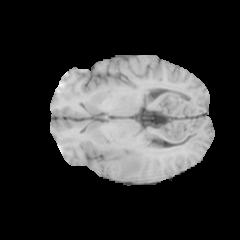glioma: (89, 142, 167, 183)
